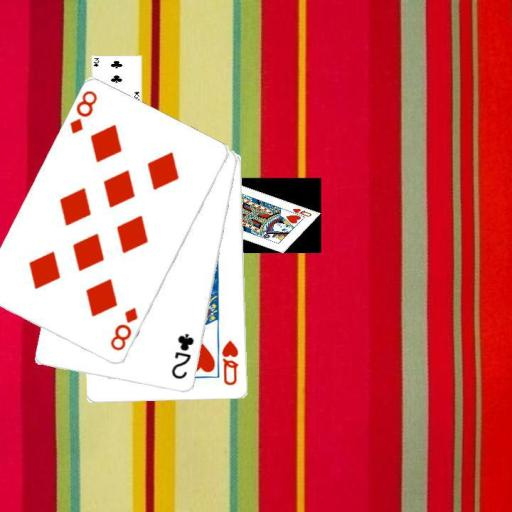2C: (169, 331, 196, 381)
8D: (107, 304, 140, 353), (67, 87, 99, 136)
QH: (219, 338, 240, 388)
